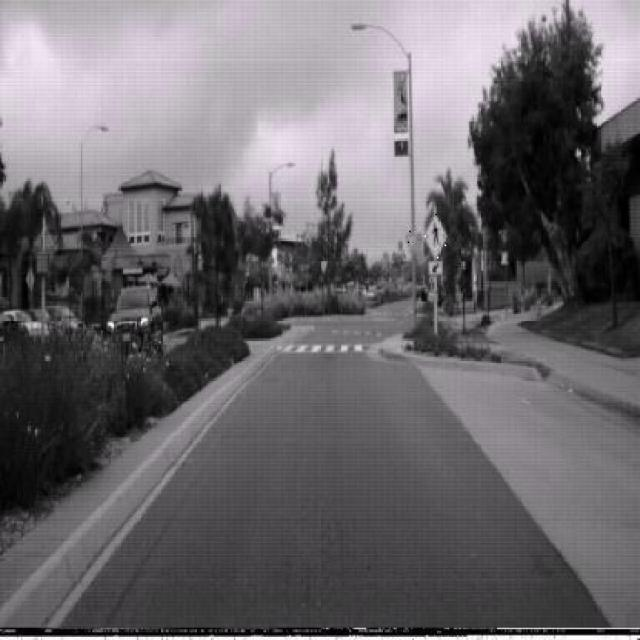pedestrianCrossing: (423, 211, 448, 260)
yield: (406, 231, 422, 255)
